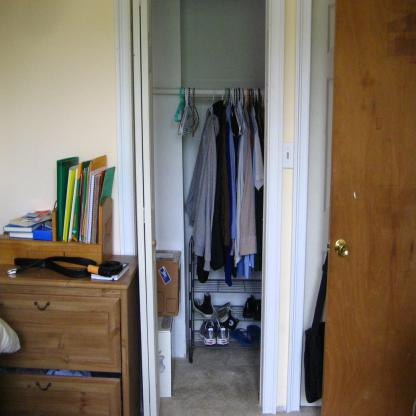door: (319, 0, 415, 415)
knob: (338, 240, 350, 259)
